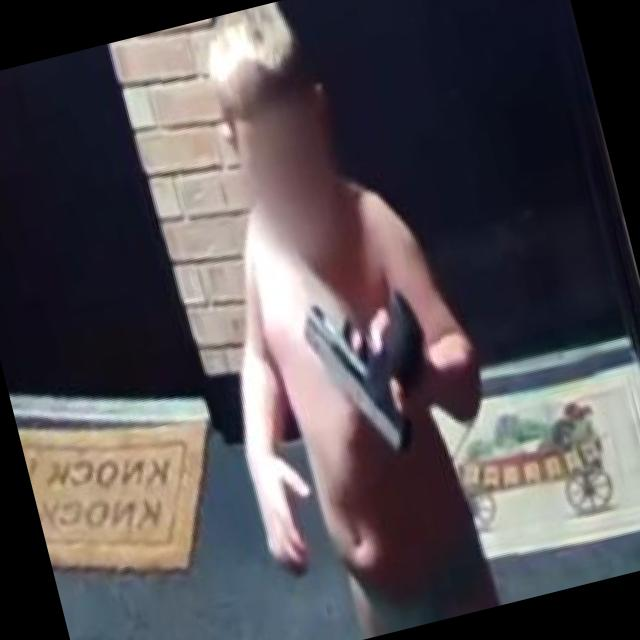Guns: (274, 255, 470, 488)
